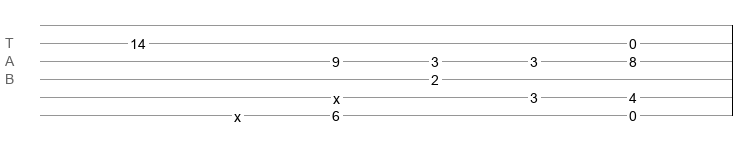0: (629, 36, 637, 46), (629, 108, 637, 118)
14: (130, 36, 146, 46)
2: (431, 72, 439, 82)
3: (431, 54, 439, 64), (530, 54, 538, 64), (530, 90, 538, 100)
4: (629, 90, 637, 100)
6: (332, 108, 340, 118)
8: (629, 54, 637, 64)
9: (332, 54, 340, 64)
x: (234, 109, 241, 117), (333, 91, 340, 99)
